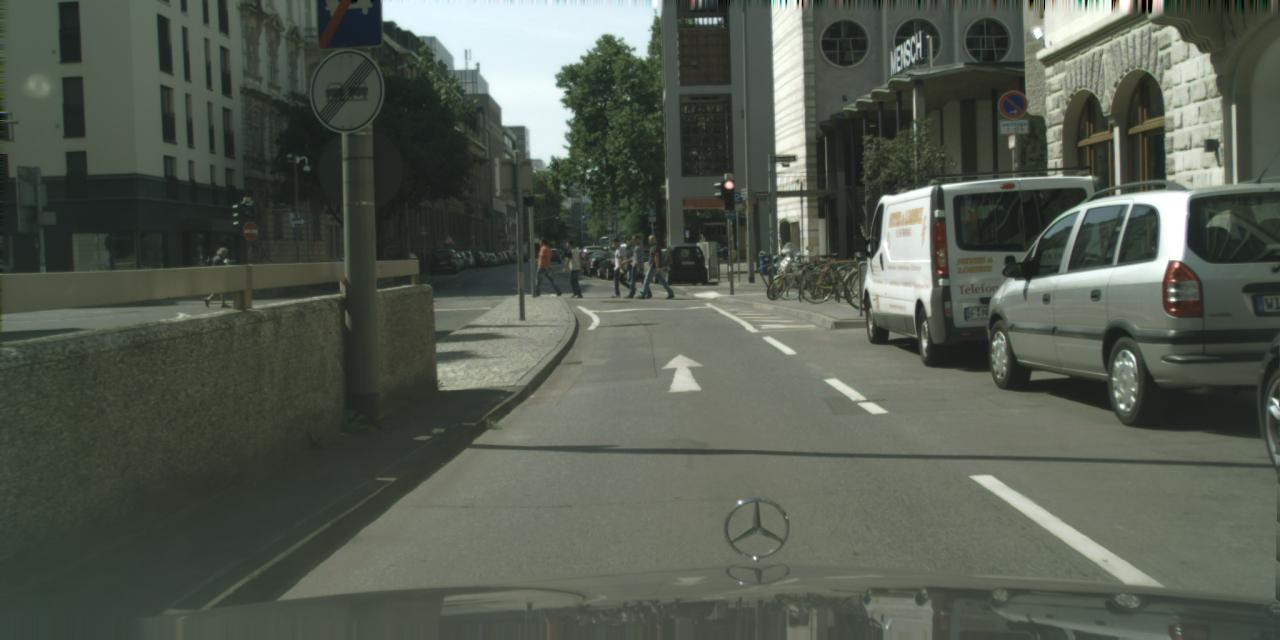ped: (623, 234, 649, 298), (641, 234, 667, 298), (207, 246, 231, 307), (532, 237, 556, 296), (608, 238, 632, 296), (563, 241, 585, 296)
